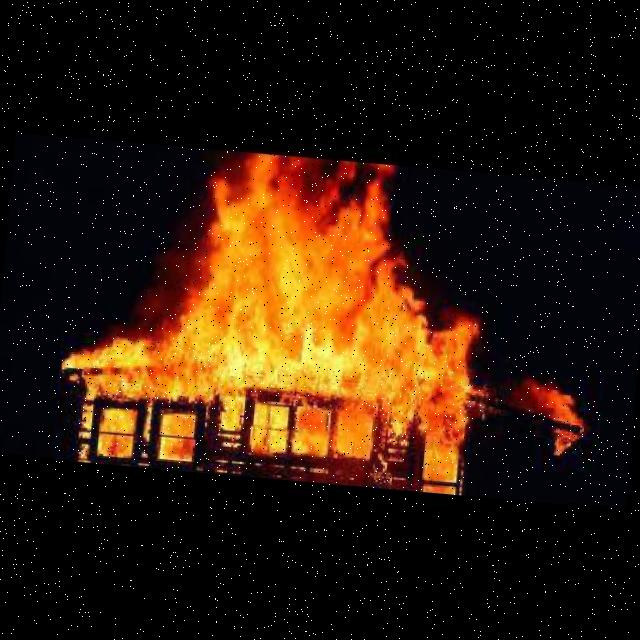fire: (53, 126, 594, 504)
